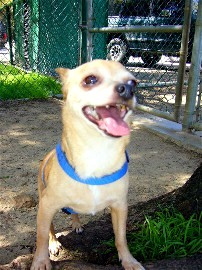dog: (30, 59, 143, 270)
